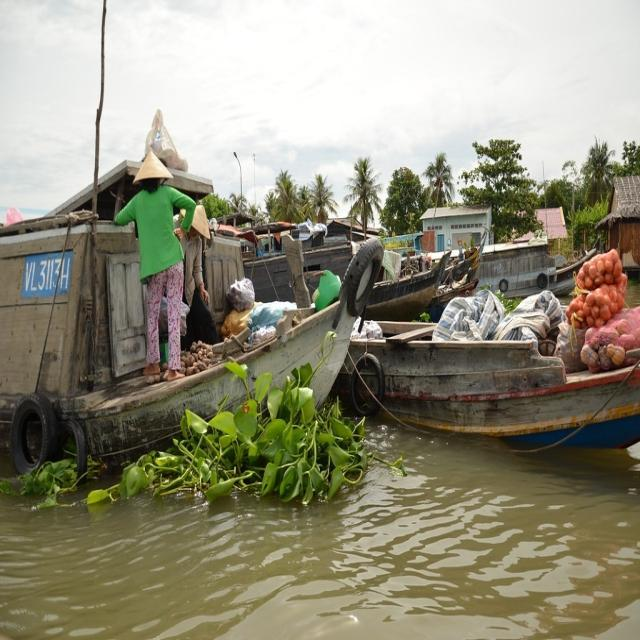Hyacinth: (161, 365, 406, 509)
